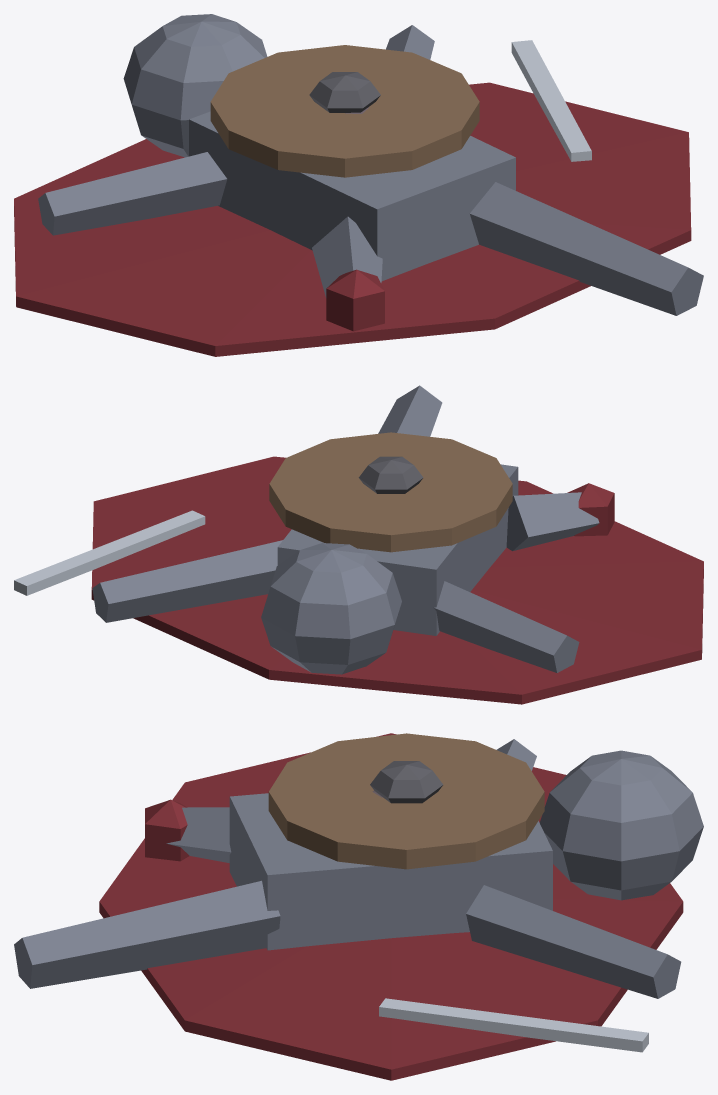
Rendered from corpse_1.glb.
3 renders of one model, top to bottom at view 1: azimuth 30°, elevation 25°; view 2: azimuth 150°, elevation 25°; view 3: azimuth 270°, elevation 25°, orthographic. The views are drawn at different scales.
Parts seen in each view (by area): view 1: corpse_1; view 2: corpse_1; view 3: corpse_1.
Part boxes in pixels (x1=…): corpse_1: x1=14, y1=14, x2=703, y2=356; corpse_1: x1=14, y1=385, x2=703, y2=704; corpse_1: x1=14, y1=733, x2=703, y2=1080.
Bounding box in the file's own units: 2.6 × 0.552 × 2.25.
